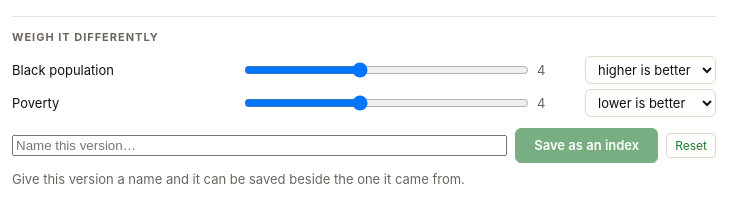
Scenario: IndexWeightEditor (P9-6) › puts the weights back
The width and height of the screenshot is (733, 201).
Set the slider named "Weight for Black population" to "9": (494, 70) [244,62,529,78]
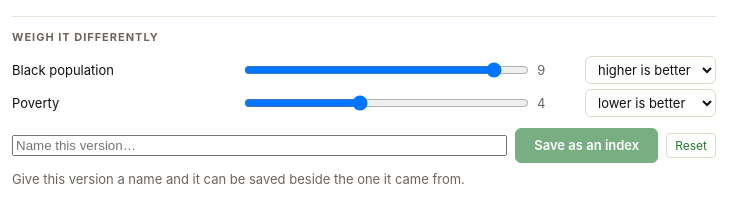
Click the button with test id "weight-reset": (691, 146) [666,133,716,158]
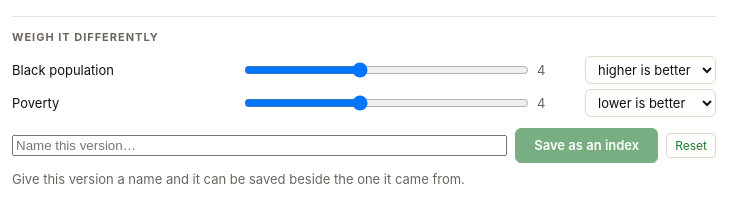
Now the slider named "Weight for Black population" holds "4", box [244,62,529,78]
